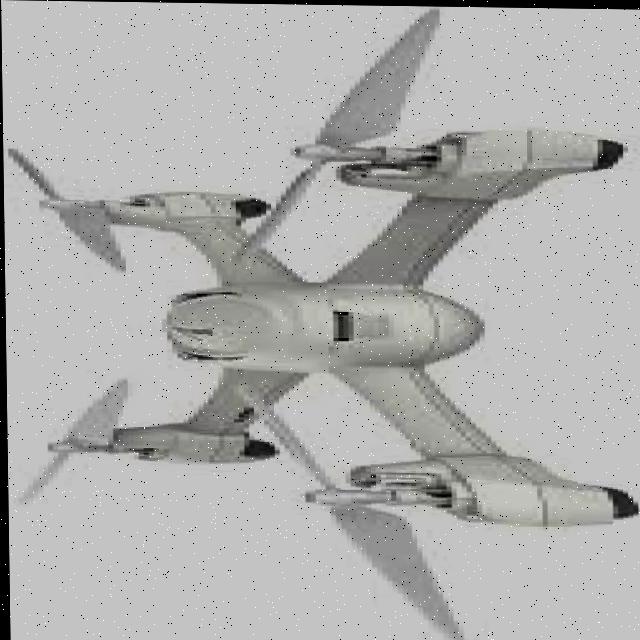drone: (0, 30, 640, 620)
